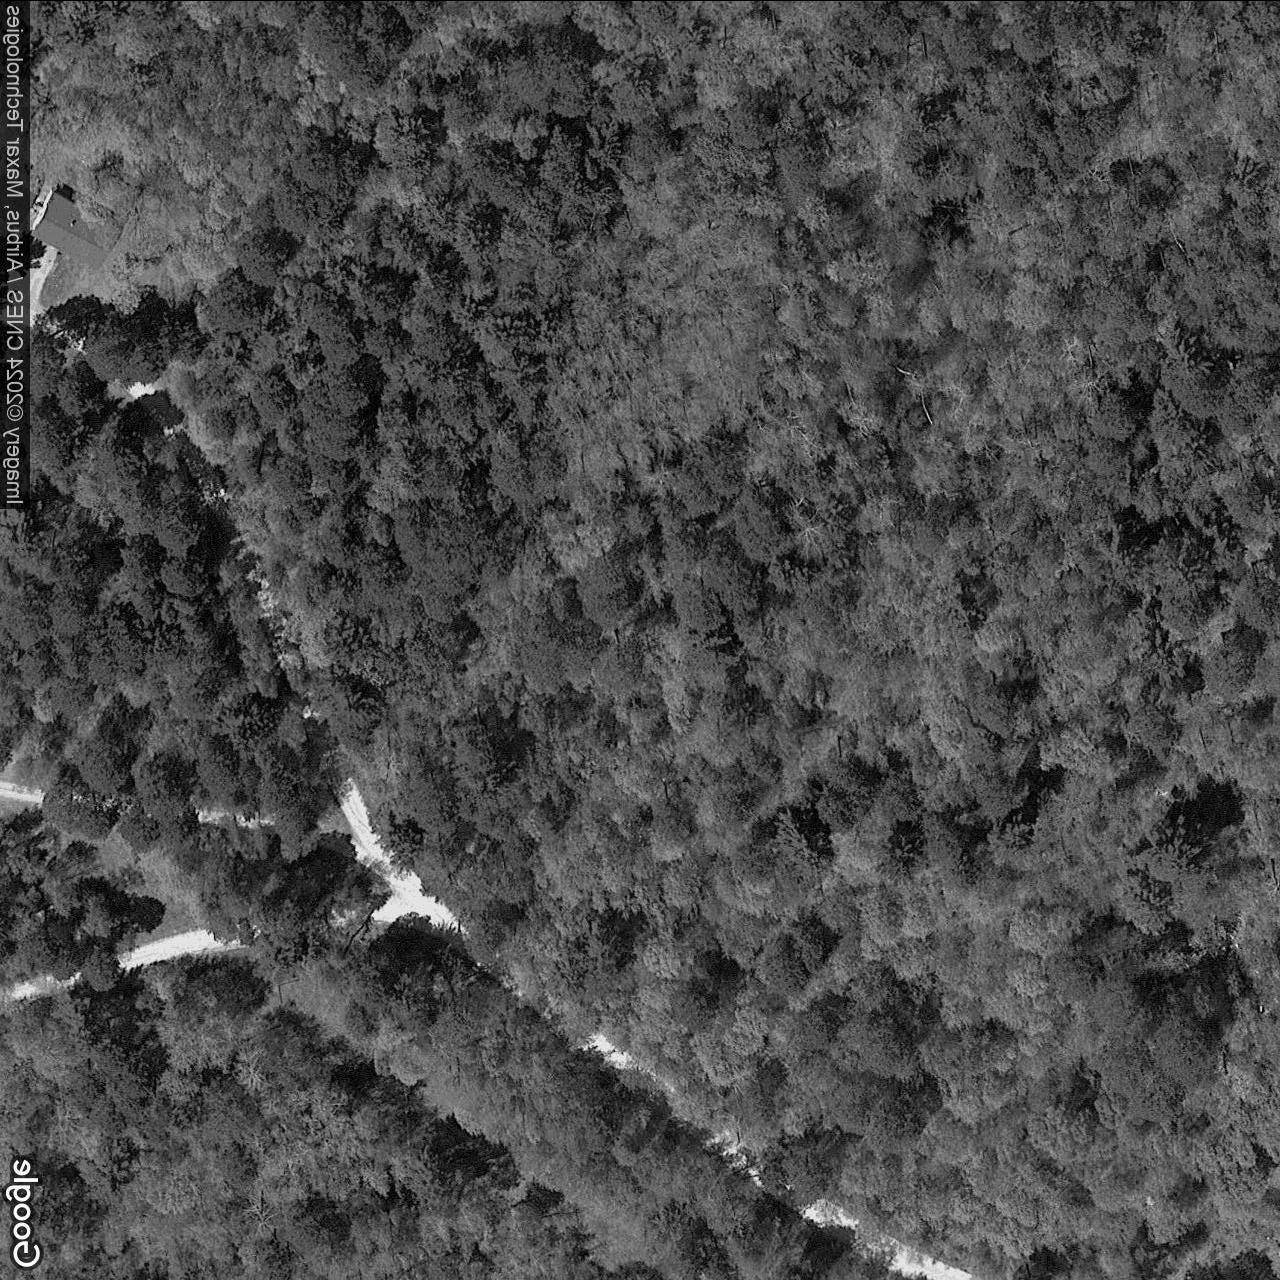House: (28, 186, 125, 272)
